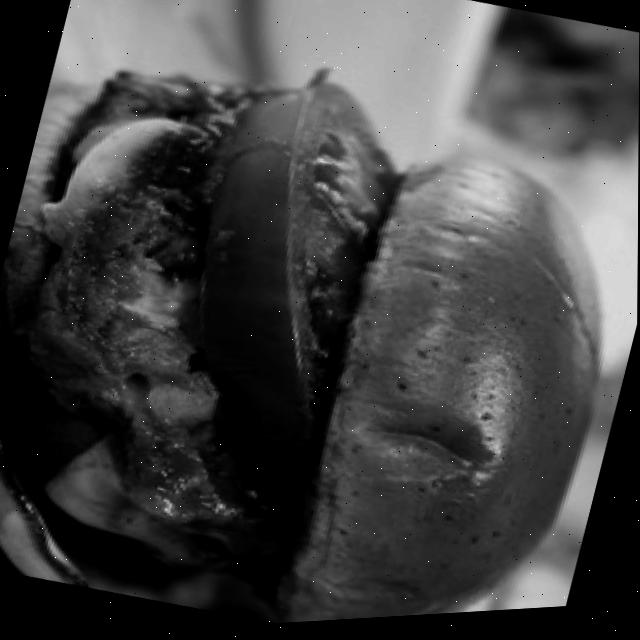汉堡快餐: (0, 5, 640, 640)
